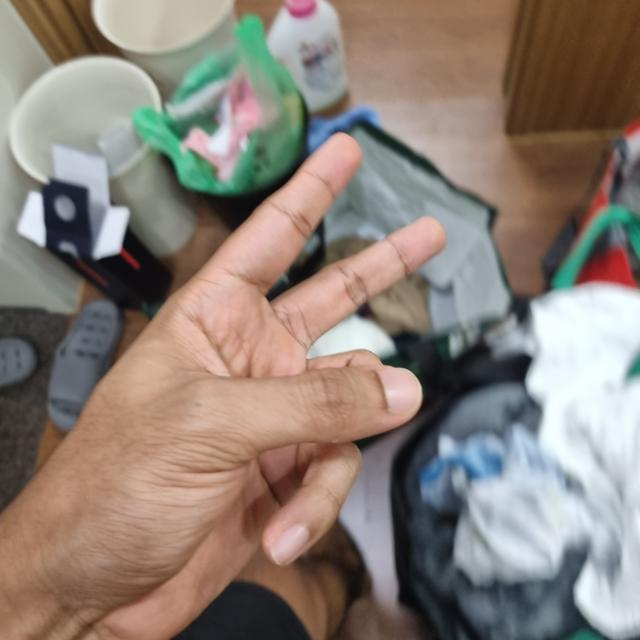Scissors: (2, 142, 440, 639)
